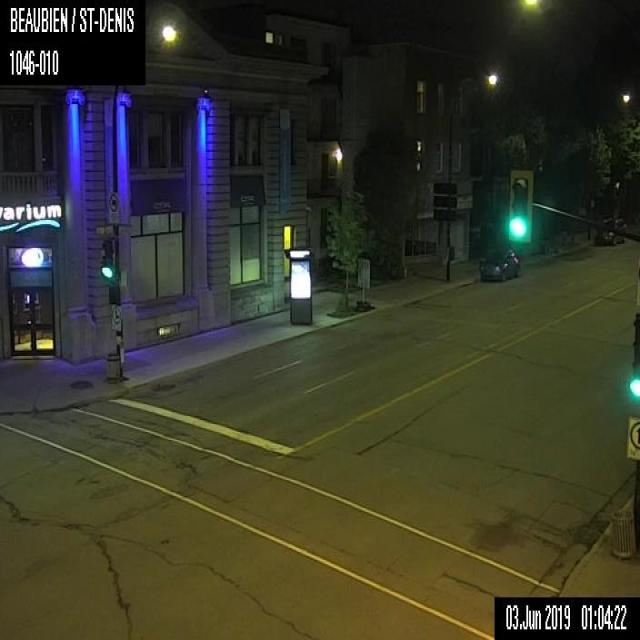vehicle: (478, 241, 520, 280), (594, 211, 626, 245)
